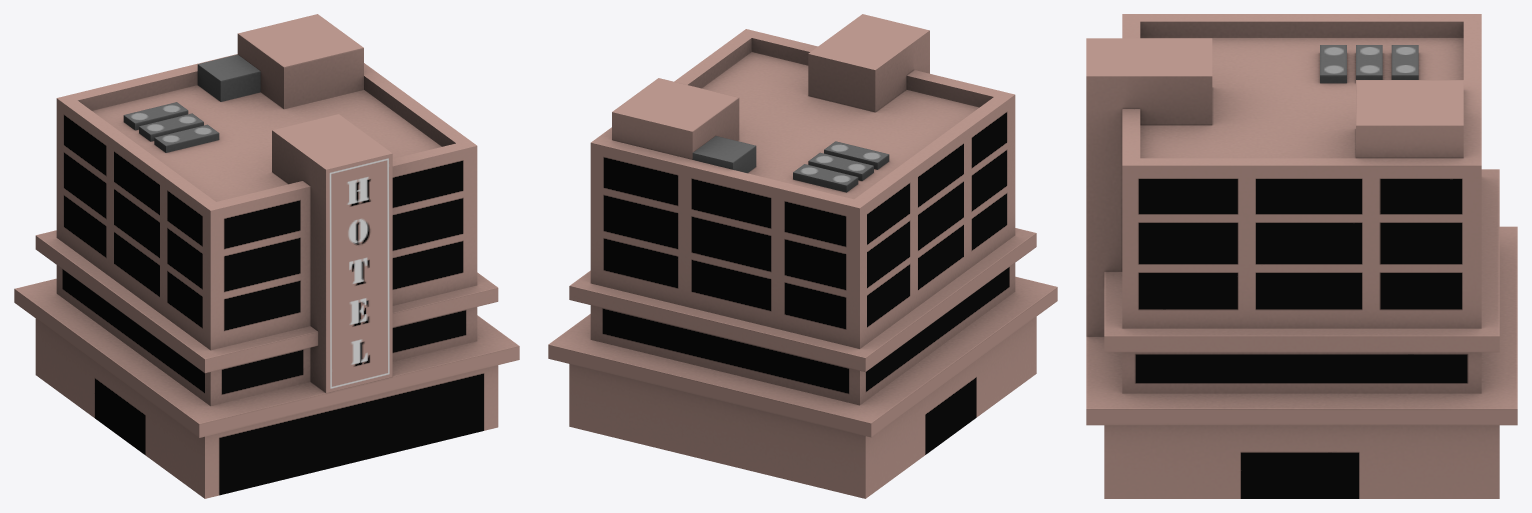
File: Hotel.fbx
3 views of the same model, side by side, from view 1: azimuth 30°, elevation 25°; view 2: azimuth 150°, elevation 25°; view 3: azimuth 270°, elevation 25° (orthographic). The views are drawn at different scales.
Visible parts, largest first — view 1: Hotel; view 2: Hotel; view 3: Hotel.
Part boxes in pixels (left/top/right/bottom): Hotel: left=14, top=14, right=519, bottom=498; Hotel: left=548, top=14, right=1057, bottom=498; Hotel: left=1086, top=14, right=1517, bottom=498.
Bounding box in the file's own units: 24 × 22 × 24.
Materials: 1 (1 with a texture image).
